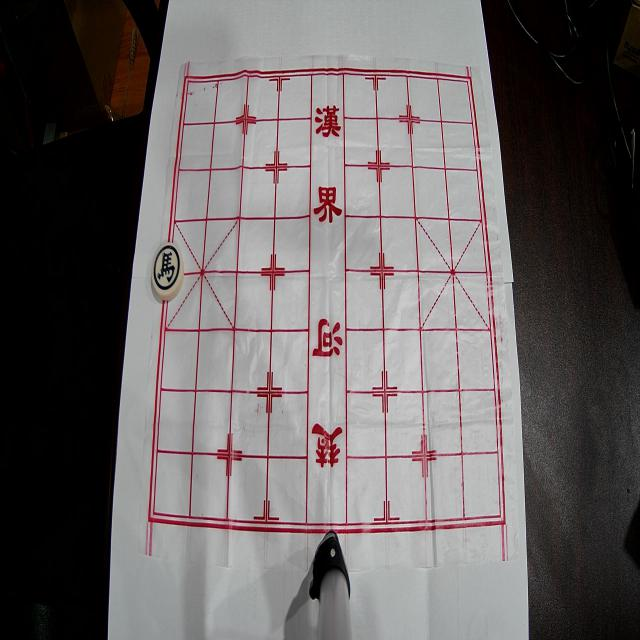black-horse: (152, 242, 184, 300)
